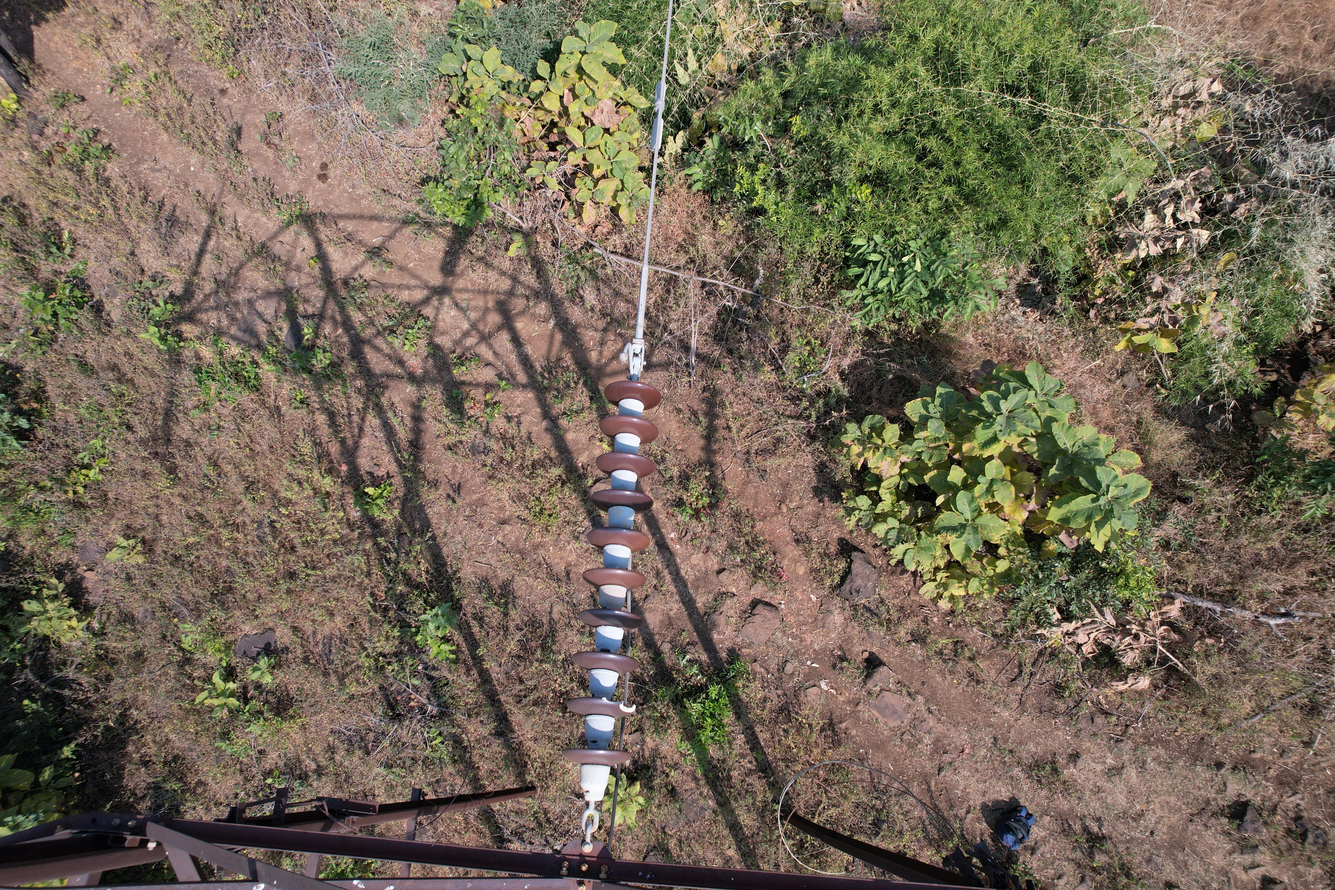broken_insulator: (559, 688, 647, 725)
